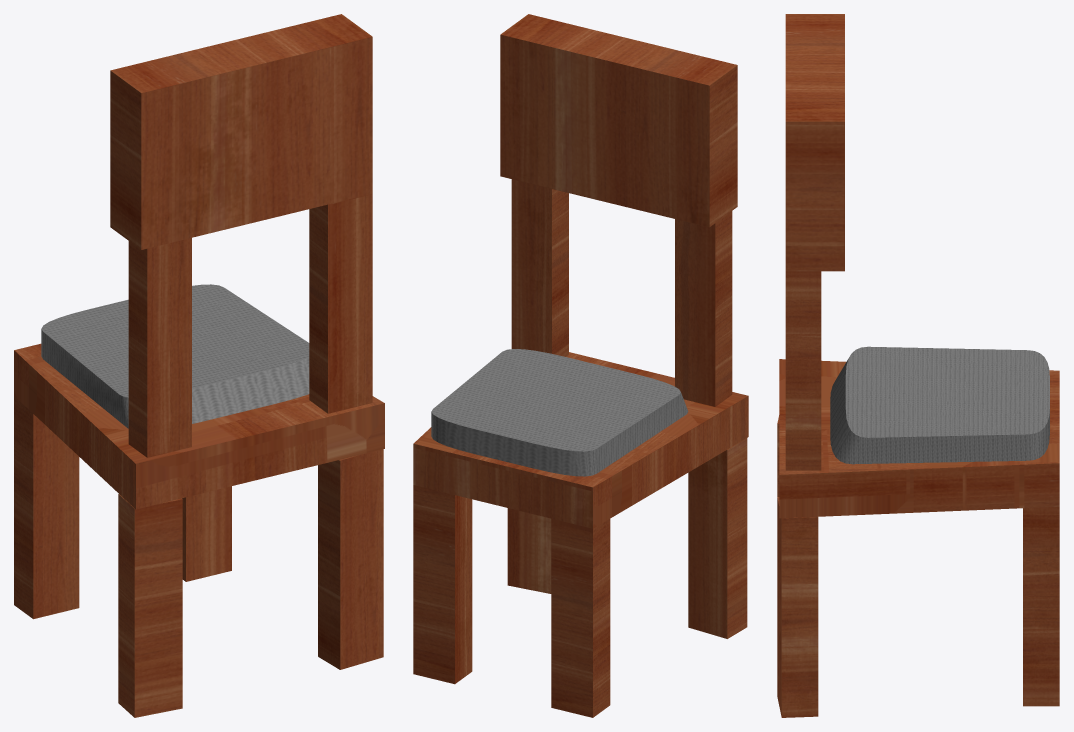
File: Chair.fbx
The picture shows the model from 3 angles, left to right: view 1: azimuth 30°, elevation 25°; view 2: azimuth 150°, elevation 25°; view 3: azimuth 270°, elevation 25°; orthographic projection. The views are drawn at different scales.
Parts seen in each view (by area): view 1: Box008, Box001, Box009, Box005, Box002, Box006, Box007, Box003, Box004; view 2: Box008, Box009, Box001, Box003, Box004, Box002, Box006, Box007, Box005; view 3: Box009, Box001, Box008, Box005, Box007, Box004.
Part boxes in pixels (x1,y1,x2,y2): Box008: (110, 14, 372, 249); Box001: (14, 343, 384, 509); Box009: (41, 284, 309, 428); Box005: (318, 449, 383, 669); Box002: (118, 494, 182, 717); Box006: (128, 238, 191, 457); Box007: (309, 193, 372, 413); Box003: (14, 396, 79, 619); Box004: (182, 486, 231, 581); Box008: (500, 14, 737, 227); Box009: (431, 349, 688, 476); Box001: (413, 352, 748, 528); Box003: (551, 518, 610, 717); Box004: (413, 485, 472, 684); Box002: (688, 438, 747, 638); Box006: (675, 211, 732, 406); Box007: (511, 179, 568, 356); Box005: (507, 508, 551, 593); Box009: (830, 346, 1049, 464); Box001: (779, 359, 1059, 518); Box008: (785, 14, 844, 271); Box005: (777, 497, 818, 717); Box007: (785, 271, 821, 470); Box004: (1023, 506, 1059, 706).
Size of the model in its own units: 26.95 by 64.26 by 27.76.
